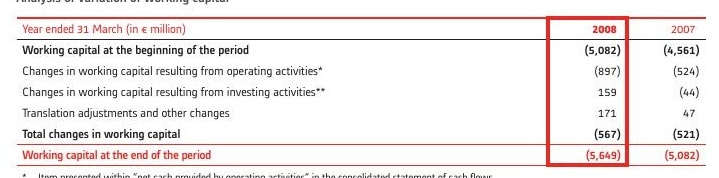table: (0, 0, 719, 178)
